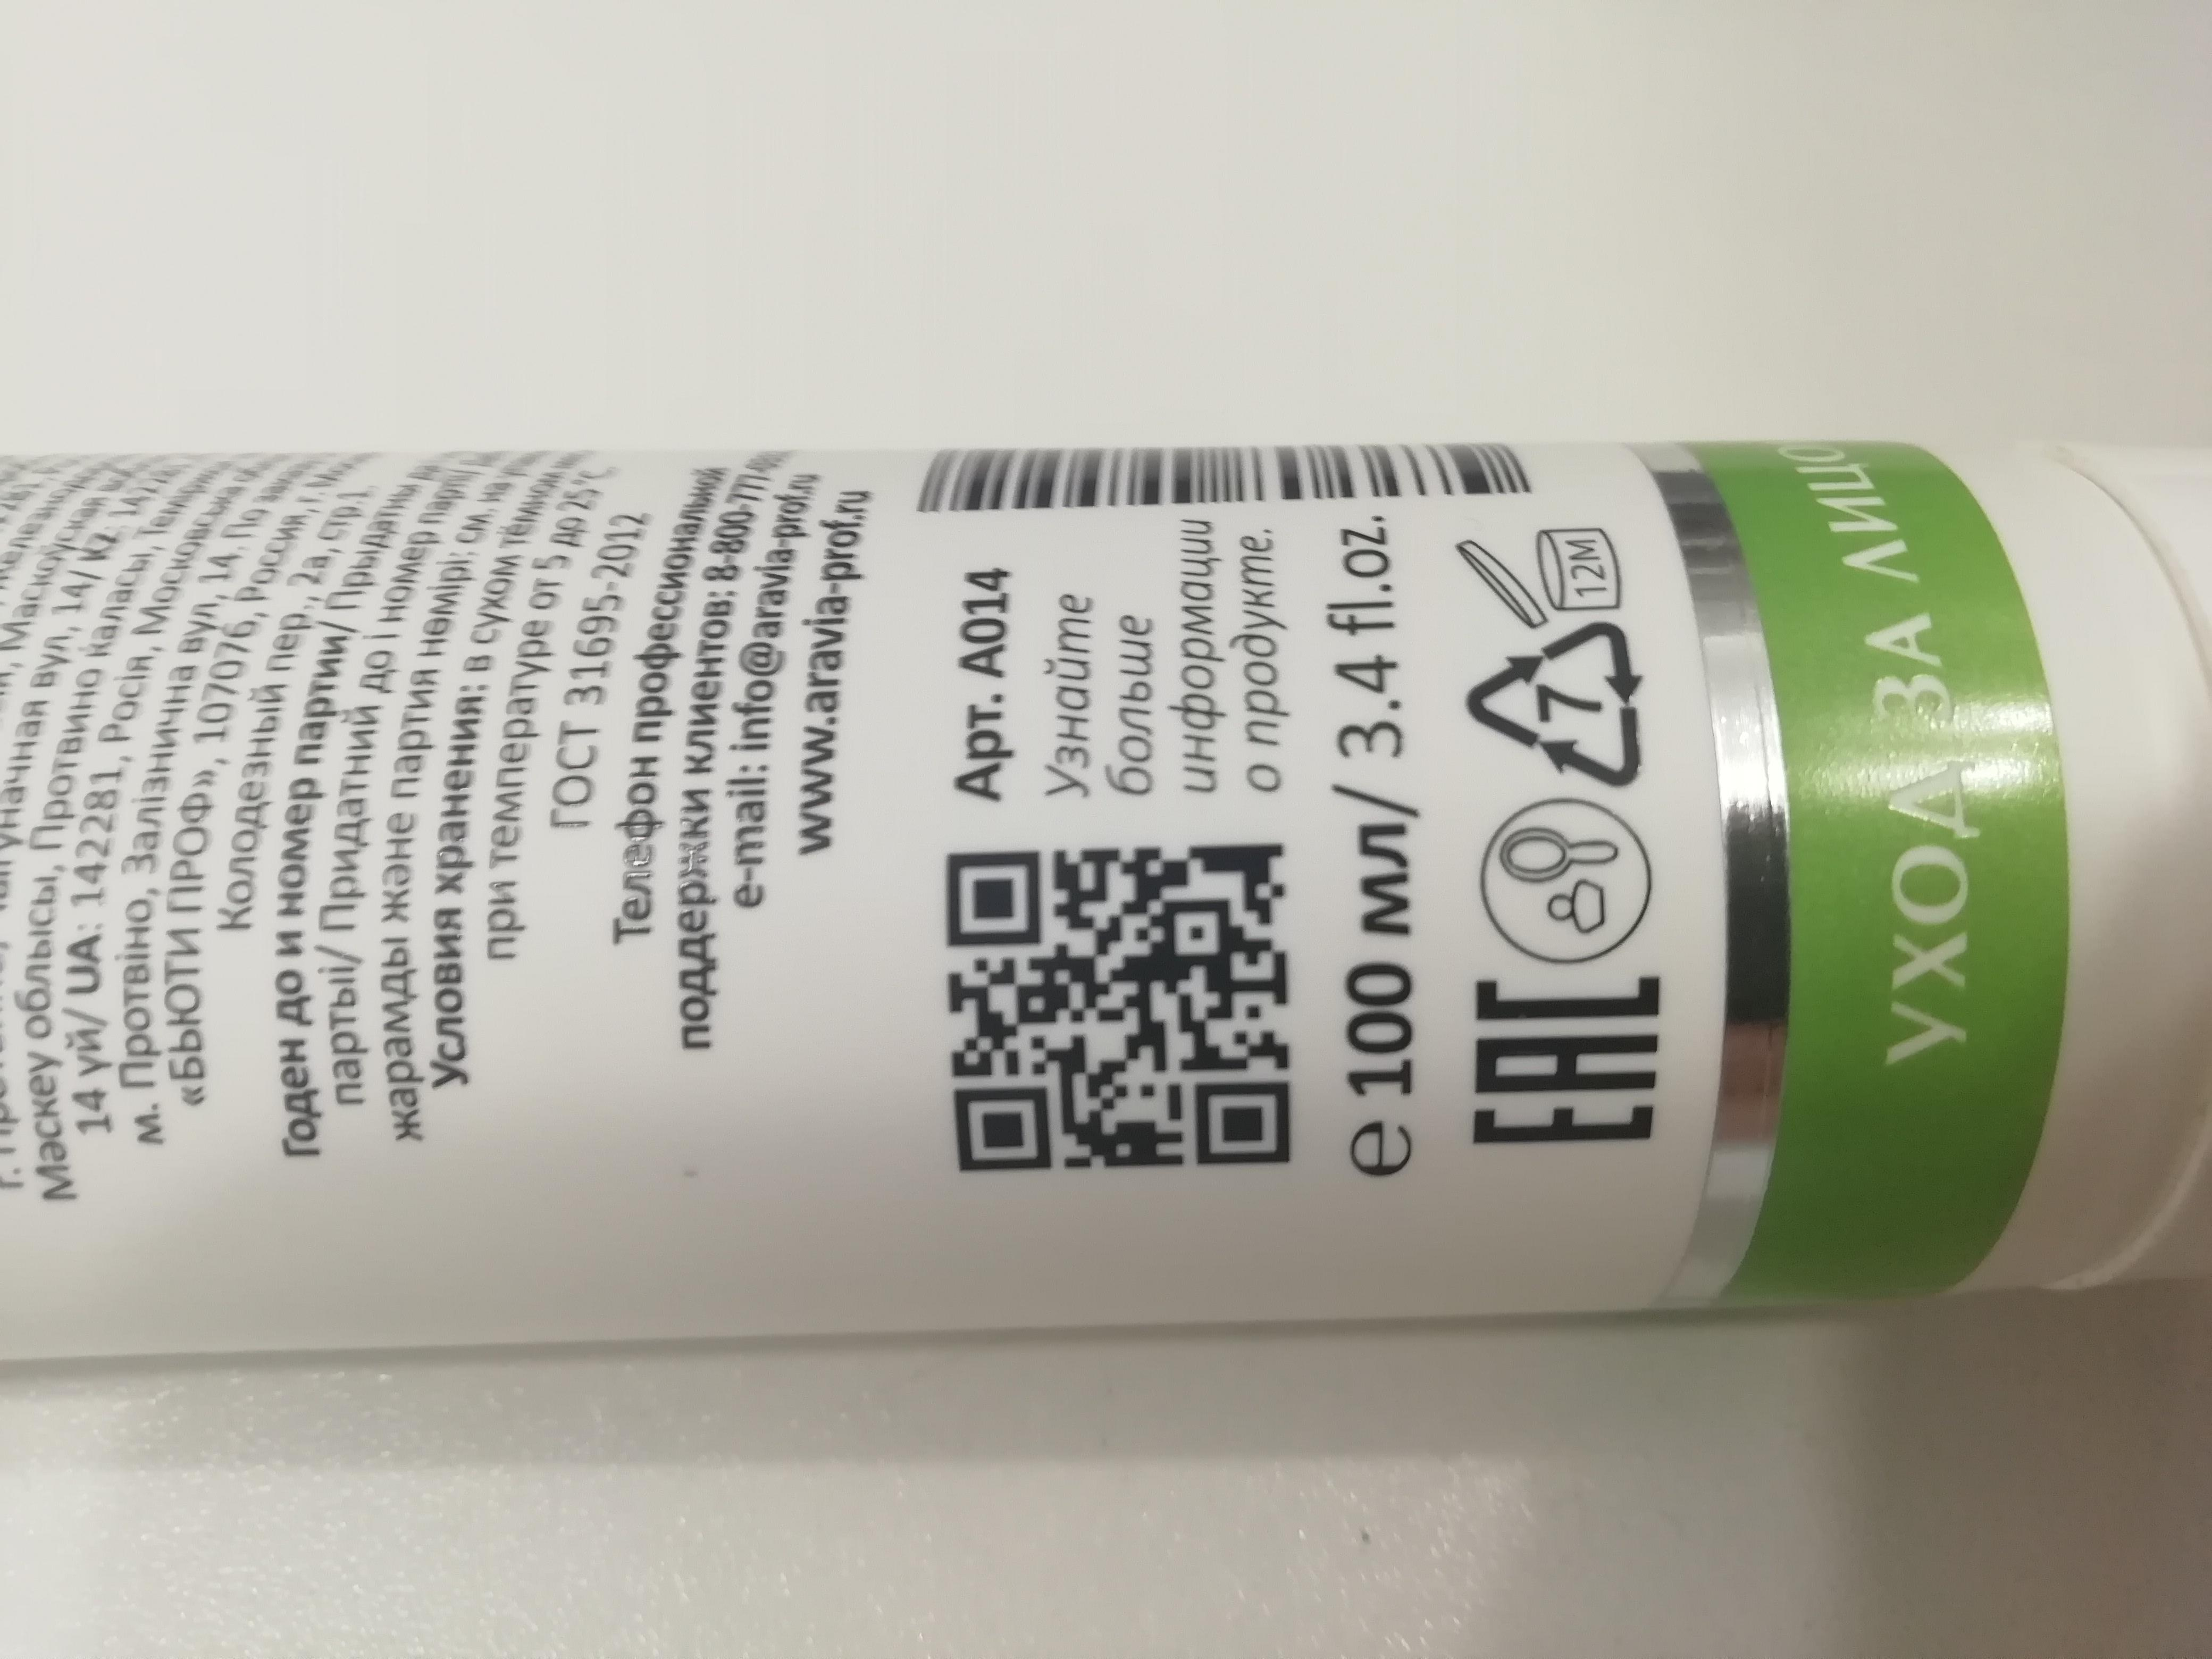qrcode: (949, 838, 1296, 1176)
